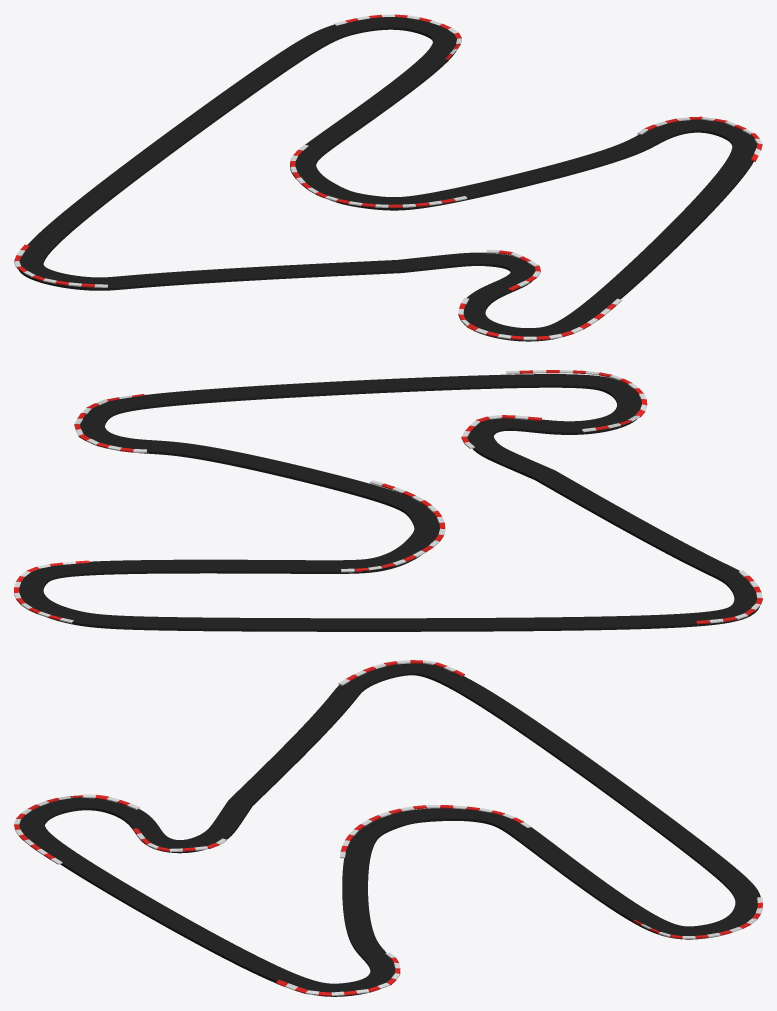
The model's file is track.fbx.
3 renders of one model, top to bottom at view 1: azimuth 30°, elevation 25°; view 2: azimuth 150°, elevation 25°; view 3: azimuth 270°, elevation 25°, orthographic. The views are drawn at different scales.
Visible parts, largest first — view 1: Pista, Curva cordolo.001, Curva cordolo.002, BézierCurve.001, Curva cordolo.003; view 2: Pista, Curva cordolo.002, Curva cordolo.001, BézierCurve.001, Curva cordolo.003, Curva cordolo.004, BézierCurve; view 3: Pista, Curva cordolo.002, Curva cordolo.001, BézierCurve.001, Curva cordolo.003, Curva cordolo.004.
Part boxes in pixels (<box>): Pista: <box>18,17,757,341</box>; Curva cordolo.001: <box>458,298,621,340</box>; Curva cordolo.002: <box>290,144,467,207</box>; BézierCurve.001: <box>637,116,762,161</box>; Curva cordolo.003: <box>334,14,461,59</box>; Pista: <box>19,374,759,631</box>; Curva cordolo.002: <box>341,480,445,572</box>; Curva cordolo.001: <box>506,370,647,432</box>; BézierCurve.001: <box>74,394,146,452</box>; Curva cordolo.003: <box>14,560,89,623</box>; Curva cordolo.004: <box>696,570,762,624</box>; BézierCurve: <box>461,415,541,448</box>; Pista: <box>19,663,760,996</box>; Curva cordolo.002: <box>340,805,531,858</box>; Curva cordolo.001: <box>14,794,139,864</box>; BézierCurve.001: <box>276,952,400,996</box>; Curva cordolo.003: <box>633,897,762,939</box>; Curva cordolo.004: <box>338,660,464,685</box>.
Size of the model in its own units: 6139 by 39.27 by 5815.
